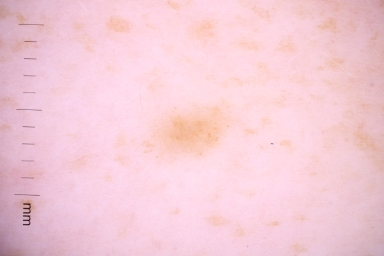nevus: (155, 111, 227, 157)
